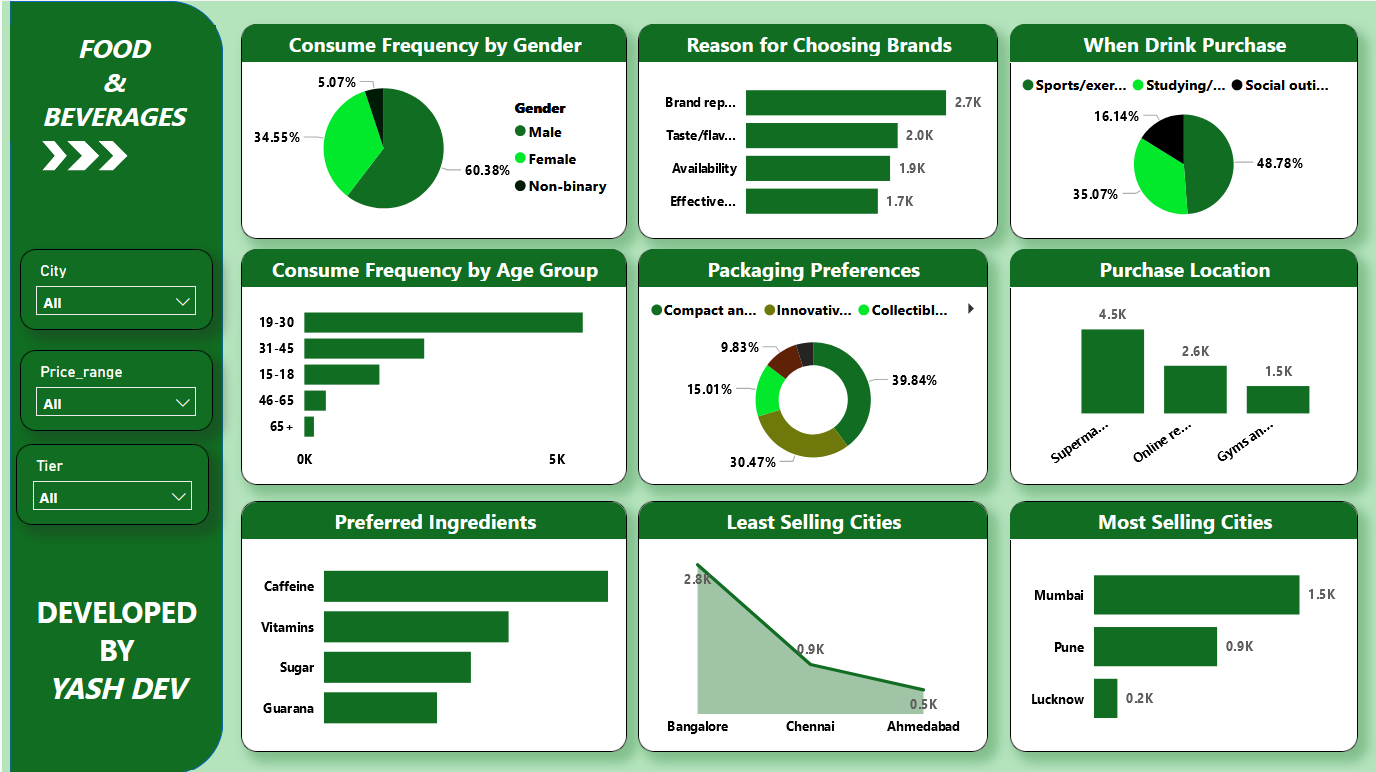

This screenshot's page, from the dashboard's own definition file:
{"tool":"powerbi","page":{"name":"Page 1","canvas":[1280,720],"ordinal":0},"visuals":[{"type":"shape","box":[6.9,0,199,720.4],"z":0},{"type":"textbox","box":[6.9,22,192.1,108.4],"z":1},{"type":"shape","box":[37,130.4,23.3,27.4],"z":2},{"type":"shape","box":[60.4,130.4,30.2,27.4],"z":3},{"type":"shape","box":[89.2,130.4,27.4,27.4],"z":4},{"type":"pieChart","title":"Consume Frequency by Gender","fields":{"Category":["Repondents.Gender"],"Y":["CountNonNull(Survey.Consume_frequency)"]},"box":[222.3,20.6,359.5,200.3],"z":7},{"type":"barChart","title":"Consume Frequency by Age Group","fields":{"Category":["Repondents.Age"],"Y":["CountNonNull(Survey.Consume_frequency)"]},"box":[222.3,230.5,359.5,219.6],"z":8},{"type":"barChart","title":"Preferred Ingredients","fields":{"Category":["Survey.Ingredients_expected"],"Y":["CountNonNull(Repondents.Respondent_ID)"]},"box":[222.3,465.2,359.5,233.3],"z":9},{"type":"donutChart","title":"Packaging Preferences","fields":{"Category":["Survey.Packaging_preference"],"Y":["CountNonNull(Repondents.Respondent_ID)"]},"box":[591.4,230.5,325.2,219.6],"z":10},{"type":"barChart","title":"Reason for Choosing Brands","fields":{"Category":["Survey.Reasons_for_choosing_brands"],"Y":["CountNonNull(Survey.Current_brands)"]},"box":[591.4,20.6,334.8,200.3],"z":11},{"type":"areaChart","title":"Least Selling Cities","fields":{"Category":["Cities.City"],"Y":["CountNonNull(Survey.Tried_before)"]},"box":[591.4,465.2,325.2,233.3],"z":12},{"type":"barChart","title":"Most Selling Cities","fields":{"Y":["CountNonNull(Survey.Tried_before)"],"Category":["Cities.City"]},"box":[937.2,465.2,323.8,233.3],"z":13},{"type":"columnChart","title":" Purchase Location","fields":{"Category":["Survey.Purchase_location"],"Y":["CountNonNull(Repondents.Respondent_ID)"]},"box":[937.2,230.5,323.8,219.6],"z":14},{"type":"pieChart","title":"When Drink Purchase","fields":{"Category":["Survey.Typical_consumption_situations"],"Y":["CountNonNull(Repondents.Respondent_ID)"]},"box":[937,21,324,200],"z":15},{"type":"slicer","fields":{"Values":["Cities.City"]},"box":[16.5,230.5,179.8,75.5],"z":16},{"type":"slicer","fields":{"Values":["Survey.Price_range"]},"box":[16.5,323.8,179.8,75.5],"z":17},{"type":"slicer","fields":{"Values":["Cities.Tier"]},"box":[12.3,411.7,179.8,75.5],"z":18},{"type":"textbox","box":[16.5,544.8,179.8,130.4],"z":19}]}

Visuals, with their boxes in screenshot pixels (x1, y1, x2, y2), scaled from the page's 1280x720 canvas onto the 1376x772 screenshot:
shape: bbox(7, 0, 221, 771)
textbox: bbox(7, 24, 214, 140)
shape: bbox(40, 140, 65, 169)
shape: bbox(65, 140, 97, 169)
shape: bbox(96, 140, 125, 169)
"Consume Frequency by Gender" pieChart: bbox(239, 22, 625, 237)
"Consume Frequency by Age Group" barChart: bbox(239, 247, 625, 483)
"Preferred Ingredients" barChart: bbox(239, 499, 625, 749)
"Packaging Preferences" donutChart: bbox(636, 247, 985, 483)
"Reason for Choosing Brands" barChart: bbox(636, 22, 996, 237)
"Least Selling Cities" areaChart: bbox(636, 499, 985, 749)
"Most Selling Cities" barChart: bbox(1007, 499, 1356, 749)
" Purchase Location" columnChart: bbox(1007, 247, 1356, 483)
"When Drink Purchase" pieChart: bbox(1007, 23, 1356, 237)
slicer - Cities.City: bbox(18, 247, 211, 328)
slicer - Survey.Price_range: bbox(18, 347, 211, 428)
slicer - Cities.Tier: bbox(13, 441, 207, 522)
textbox: bbox(18, 584, 211, 724)
